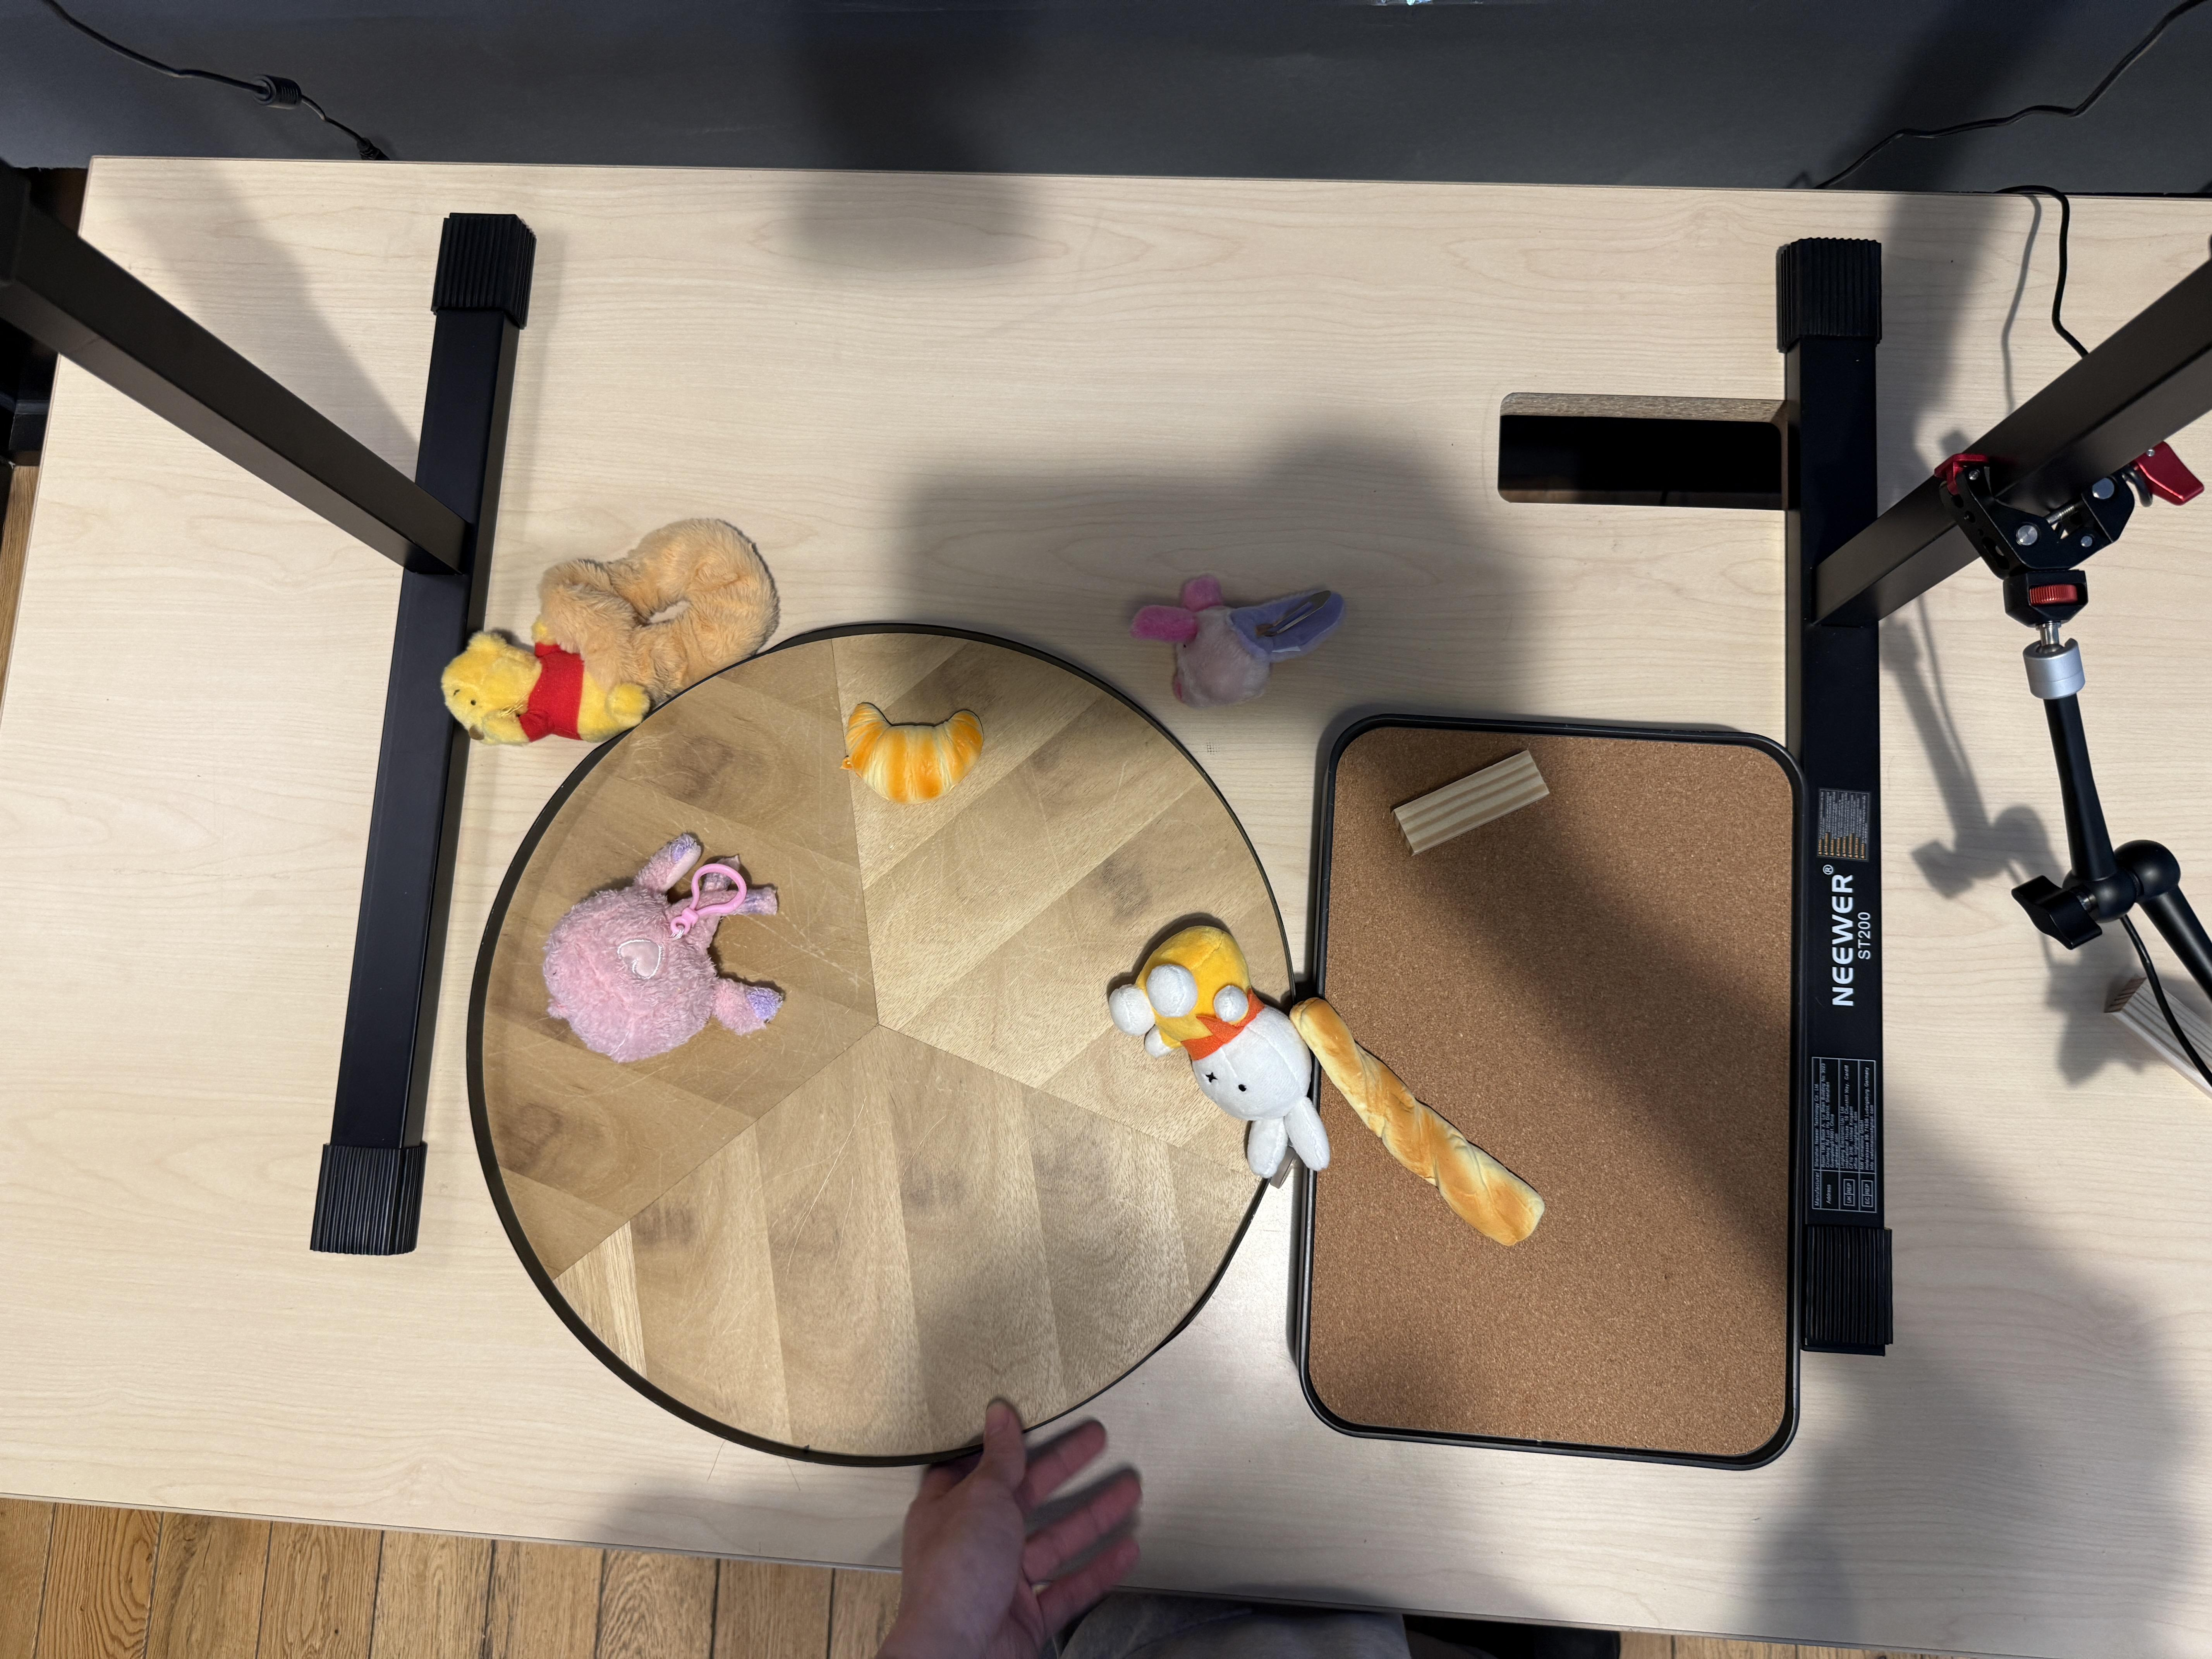block: (1390, 742, 1550, 854)
bread: (1299, 995, 1550, 1246), (840, 704, 986, 802)
doll: (446, 518, 777, 735), (1109, 924, 1331, 1178), (549, 833, 786, 1060), (1130, 573, 1348, 704)
